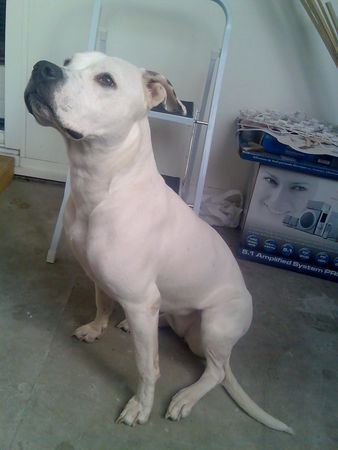dogo_argentino: (22, 50, 293, 435)
